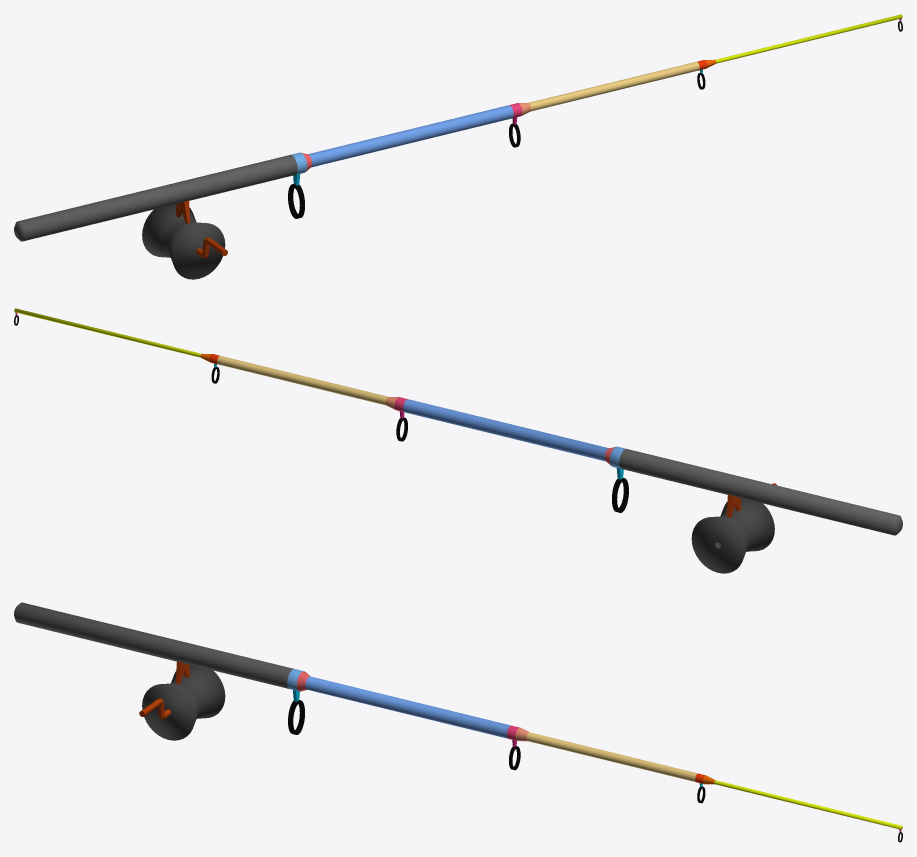
Rendered from olta12.fbx.
3 renders of one model, top to bottom at view 1: azimuth 30°, elevation 25°; view 2: azimuth 150°, elevation 25°; view 3: azimuth 330°, elevation 25°, orthographic.
Parts seen in each view (by area): view 1: Cylinder.005; view 2: Cylinder.005; view 3: Cylinder.005.
Boxes of the visible parts, left/top/right/bottom form: Cylinder.005: left=14, top=14, right=902, bottom=279; Cylinder.005: left=14, top=308, right=902, bottom=573; Cylinder.005: left=14, top=602, right=902, bottom=842.
Bounding box in the file's own units: 4613 × 427 × 513.
